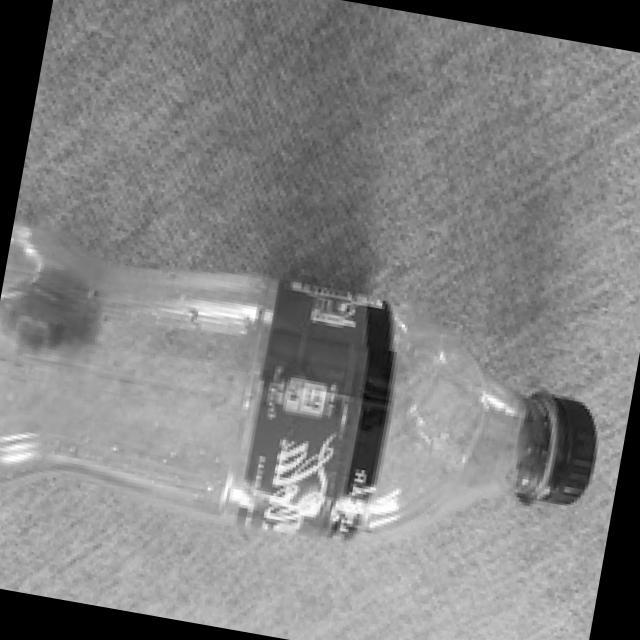good: (1, 251, 614, 590)
